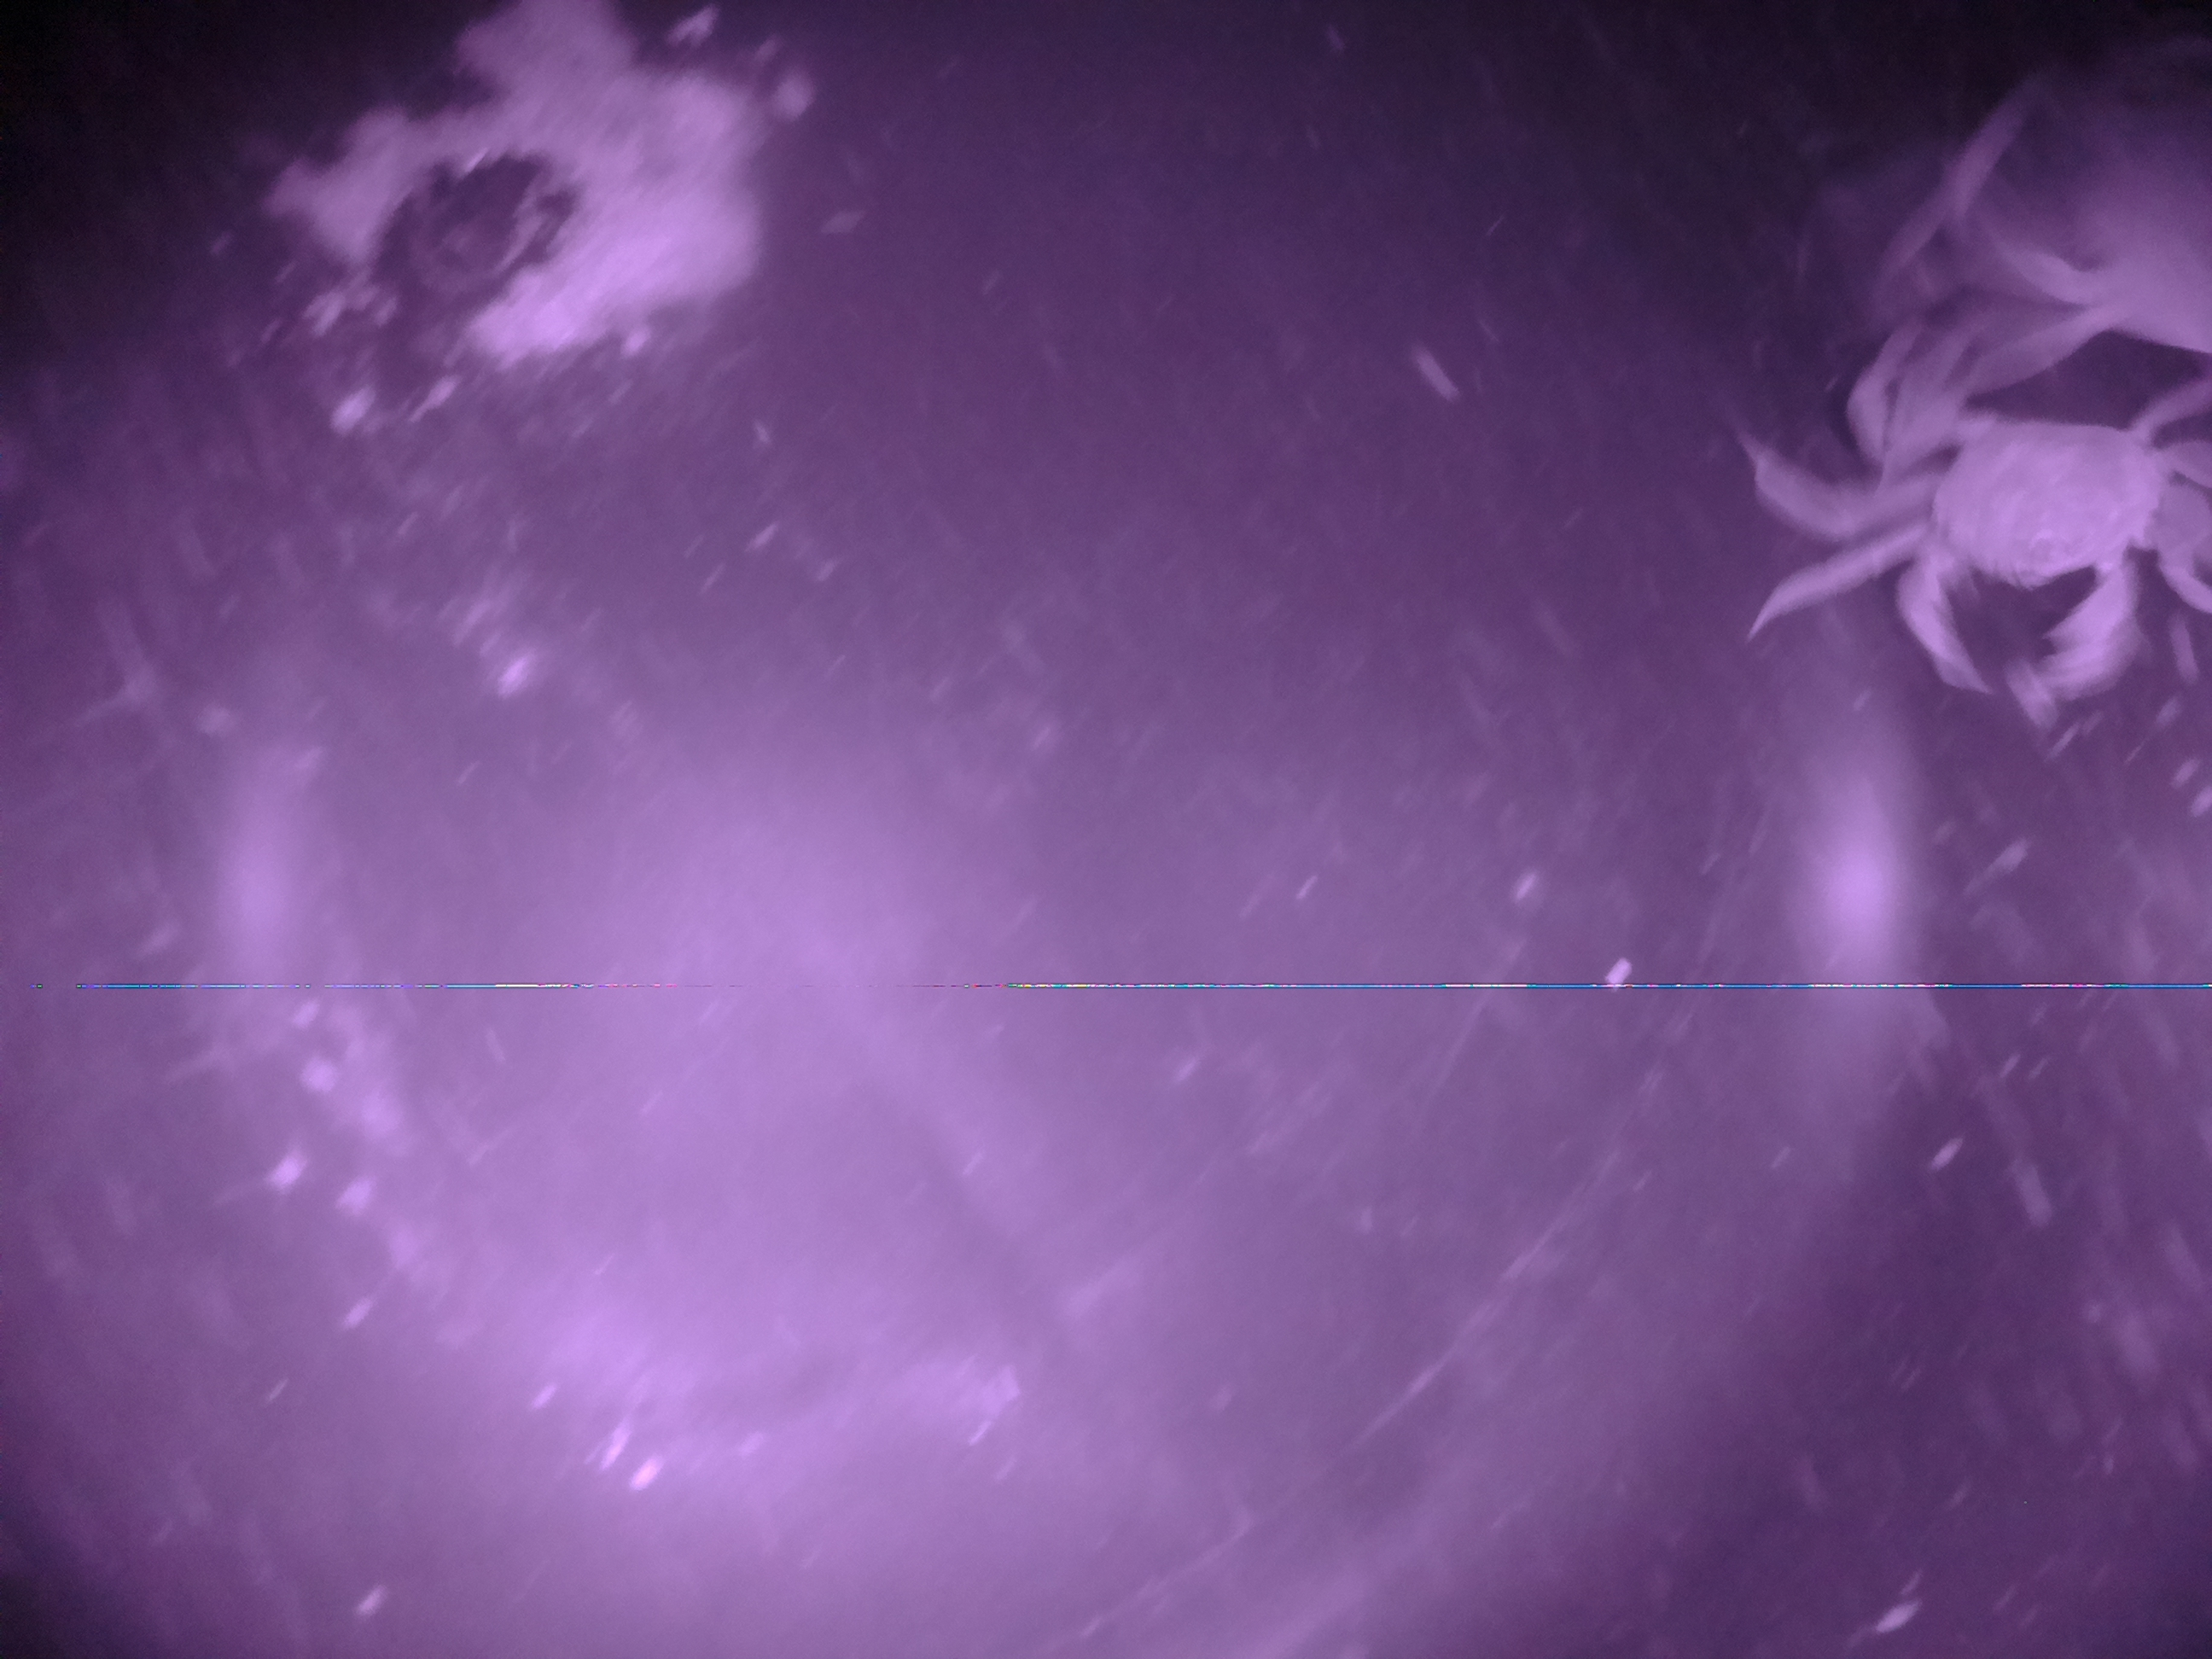Crab: (1867, 357, 2193, 638)
